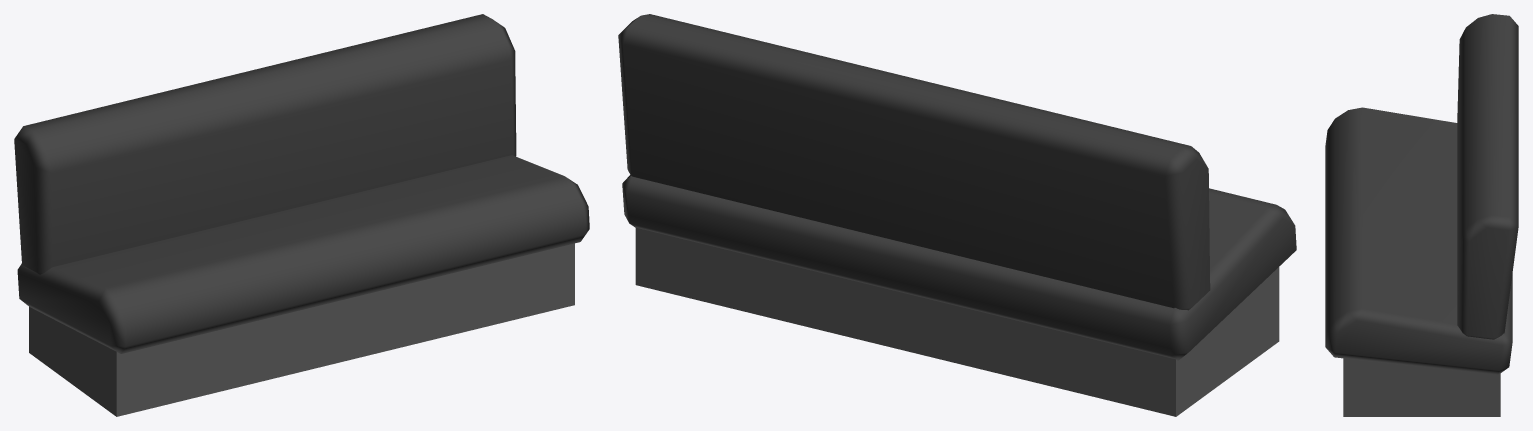
The model's file is sofa_009.fbx.
3 renders of one model, left to right at view 1: azimuth 30°, elevation 25°; view 2: azimuth 150°, elevation 25°; view 3: azimuth 270°, elevation 25°, orthographic. The views are drawn at different scales.
Visible parts, largest first — view 1: sofa_009; view 2: sofa_009; view 3: sofa_009.
Part boxes in pixels (<box>): sofa_009: <box>14,14,589,416</box>; sofa_009: <box>618,14,1296,416</box>; sofa_009: <box>1325,14,1518,416</box>.
Size of the model in its own units: 290 by 113 by 130.
